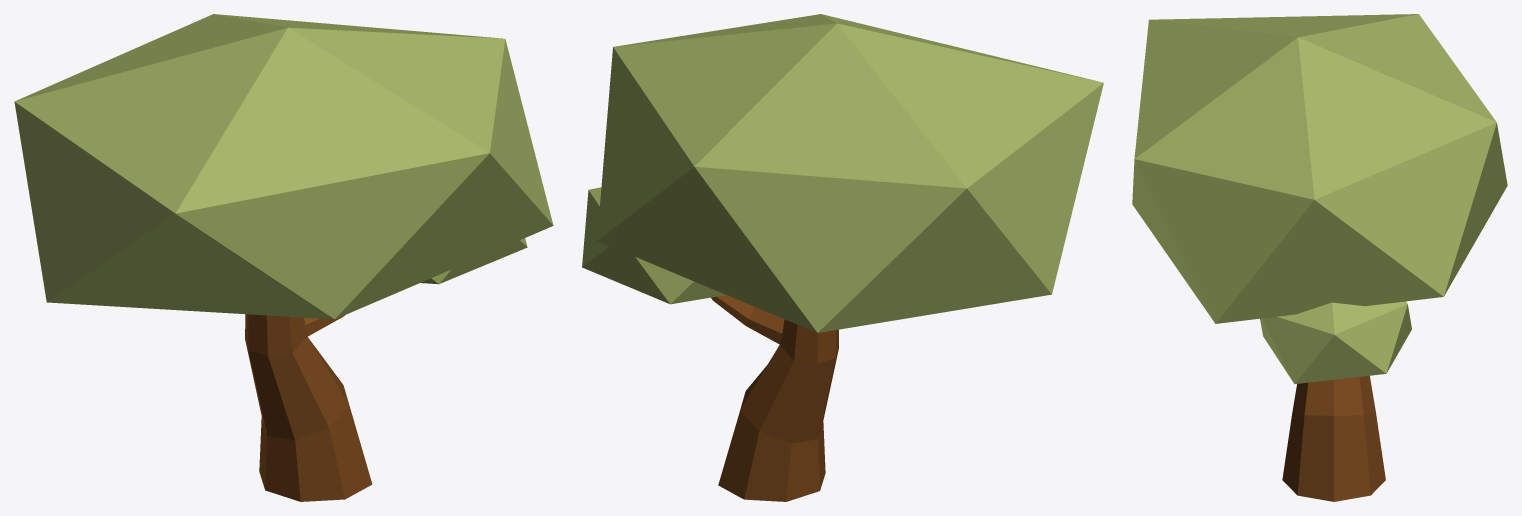
The model's file is bush_q2.glb.
3 renders of one model, left to right at view 1: azimuth 30°, elevation 25°; view 2: azimuth 150°, elevation 25°; view 3: azimuth 270°, elevation 25°, orthographic. The views are drawn at different scales.
Parts seen in each view (by area): view 1: Bush2_Icosphere.002; view 2: Bush2_Icosphere.002; view 3: Bush2_Icosphere.002.
Part boxes in pixels (x1,y1,x2,y2): Bush2_Icosphere.002: [14, 14, 553, 501]; Bush2_Icosphere.002: [582, 14, 1103, 501]; Bush2_Icosphere.002: [1132, 14, 1507, 501].
Size of the model in its own units: 1.1 by 1.05 by 0.8485.
